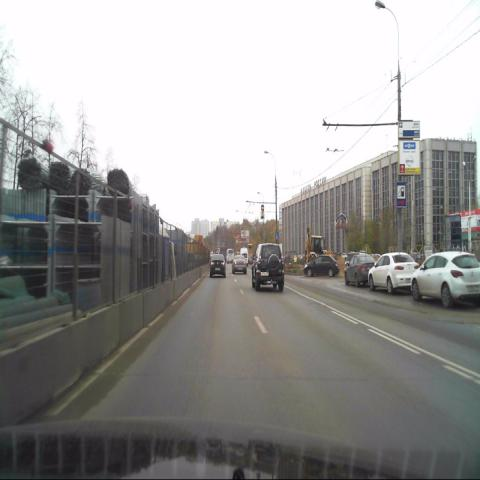7_3: (396, 182, 406, 208)
